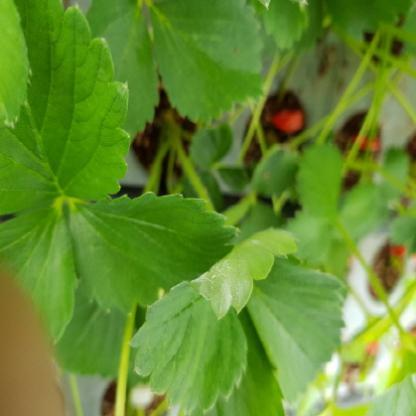Strawberry_Powdery_Mildew_Leaf: (127, 228, 301, 416)
